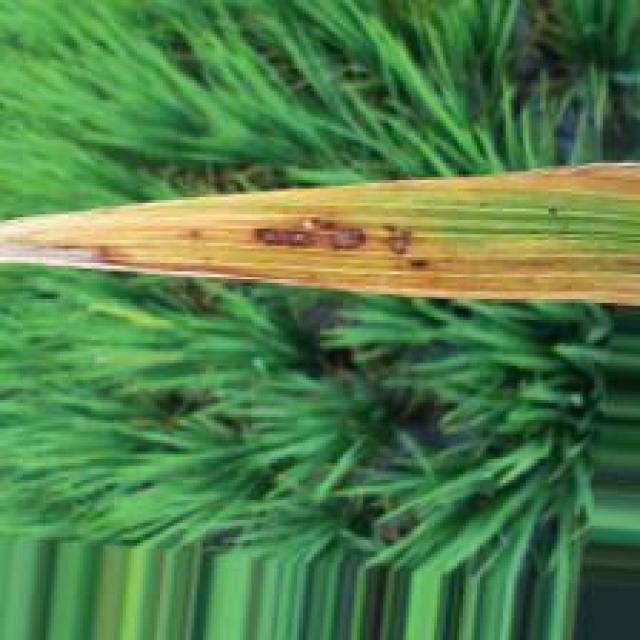Bacterial_Leaf_Blight: (0, 163, 640, 305)
